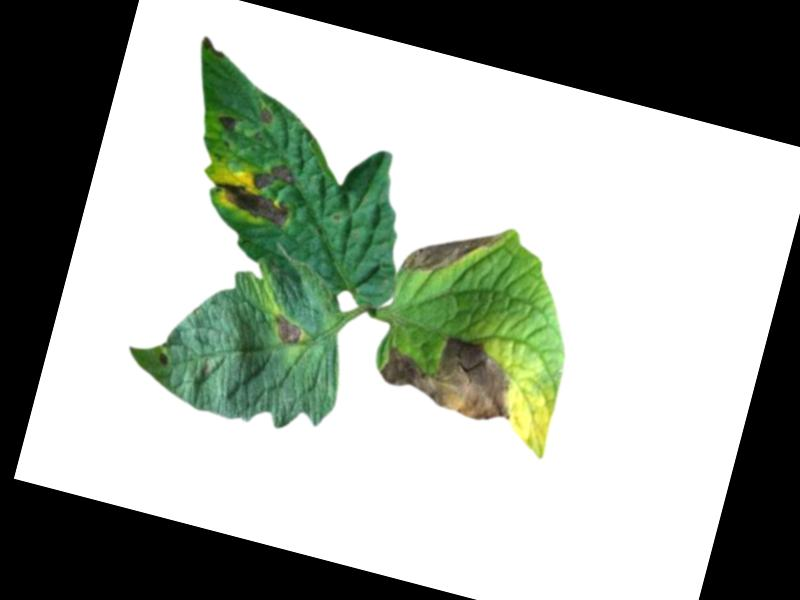Early_blight: (373, 316, 528, 430), (401, 208, 507, 292), (209, 148, 304, 232), (270, 311, 308, 346), (214, 111, 241, 133), (256, 105, 276, 125)
